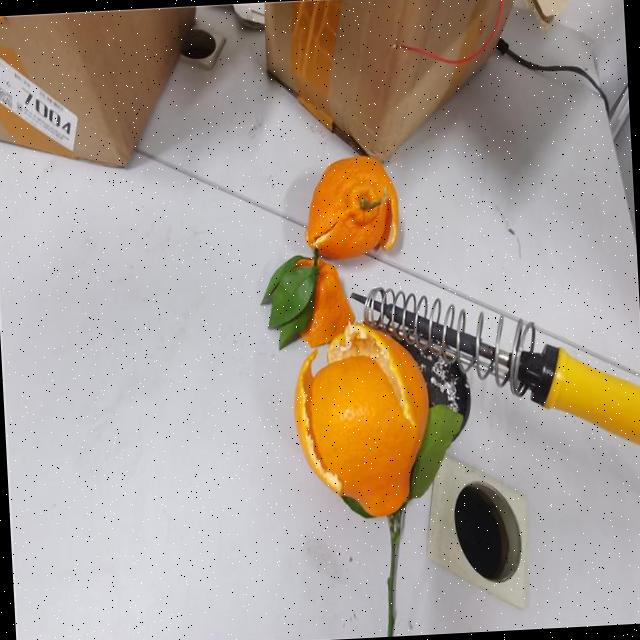orange-peel: (288, 318, 436, 522), (300, 152, 402, 262)
